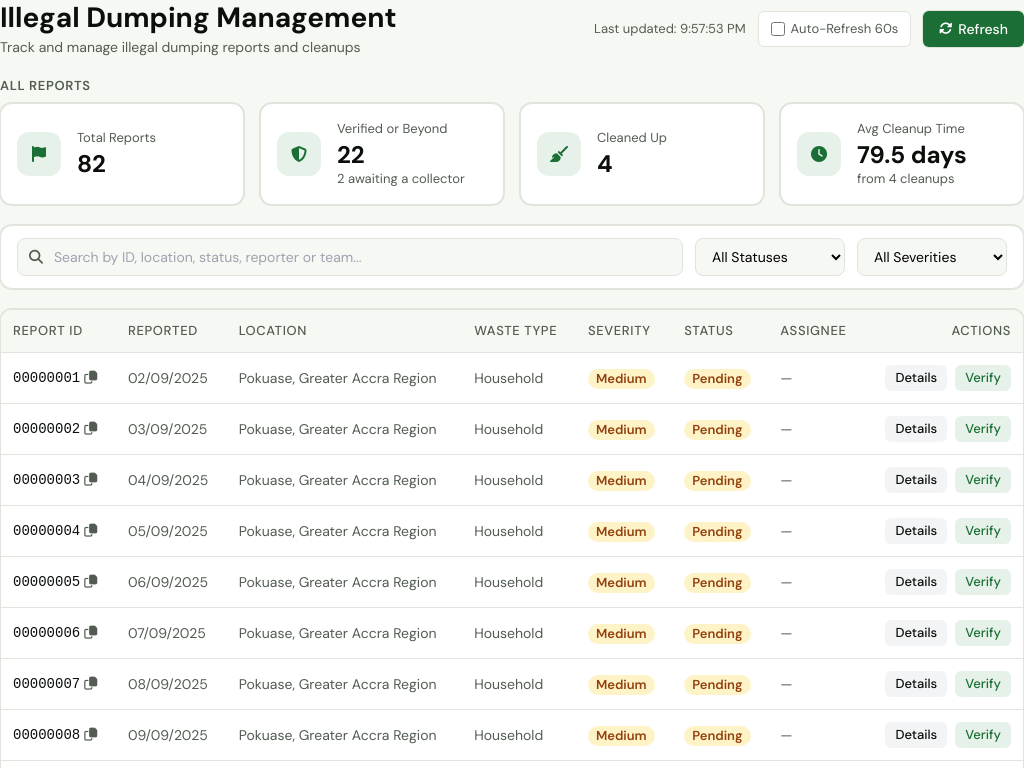
Test: Reports page › trims search input
Expected: the text with test id "kpi-total-reports" does not show "—", [77, 148, 106, 179]
Type "  margibi  " into the field with placeholder "Search by ID, location, status, reporter or team..." at (350, 257), box [17, 238, 683, 276]
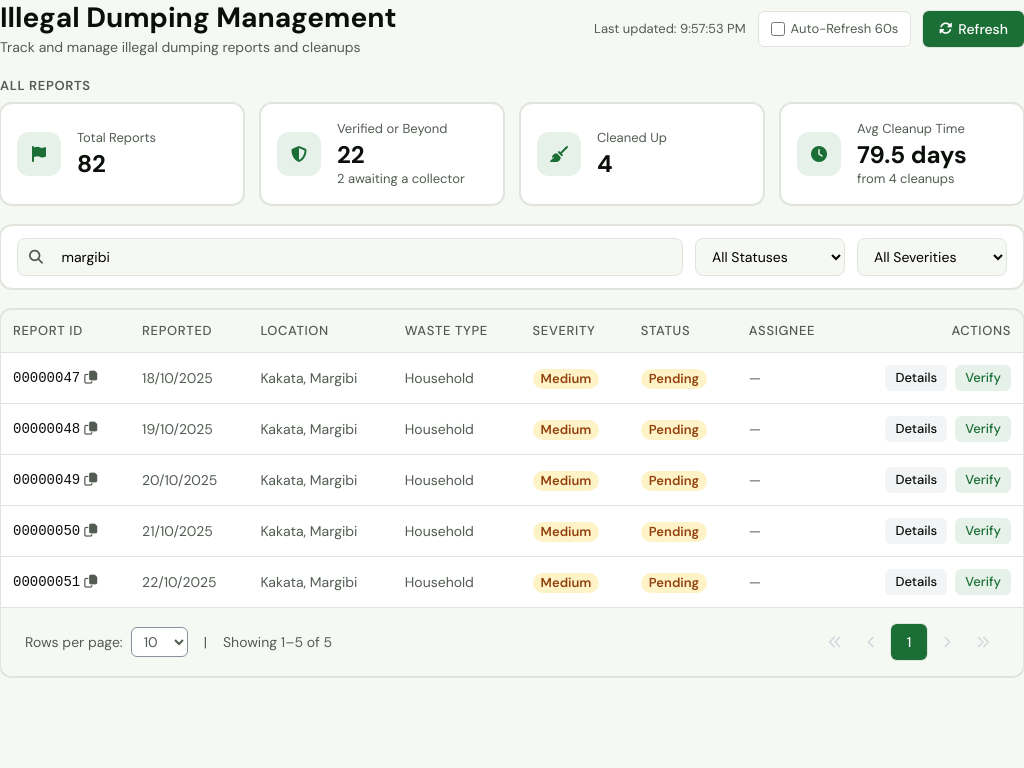
Now the text "Showing 1–5 of 5" is shown, box [223, 632, 332, 652]
